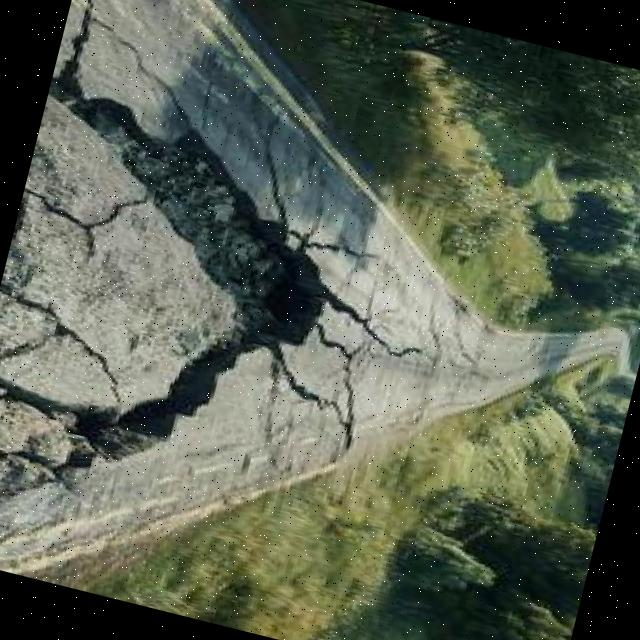road collapse: (0, 24, 521, 624)
